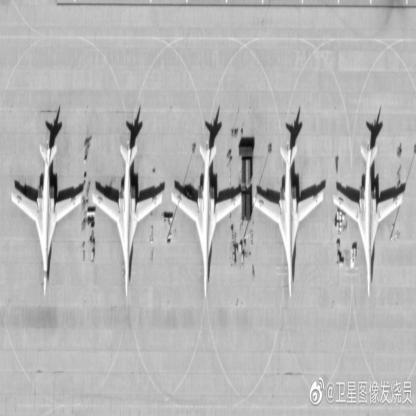Tu160: (334, 142, 405, 300), (254, 142, 325, 300), (172, 142, 243, 300), (93, 141, 164, 299), (12, 141, 82, 300)
